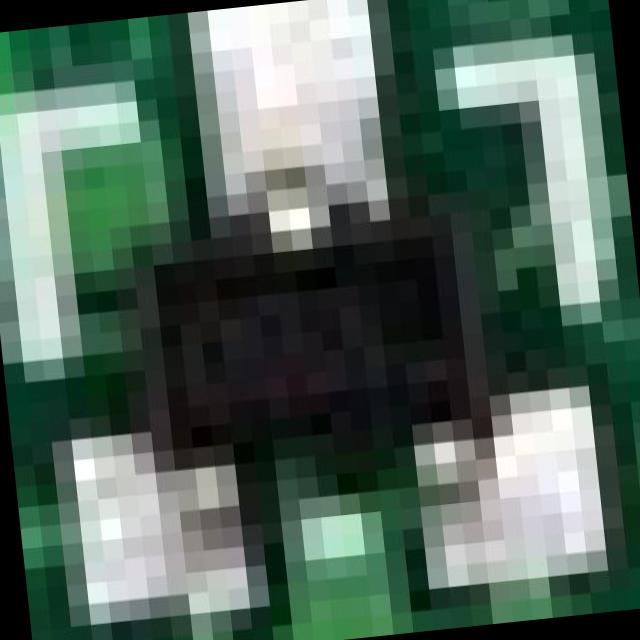transistor: (102, 120, 540, 565)
